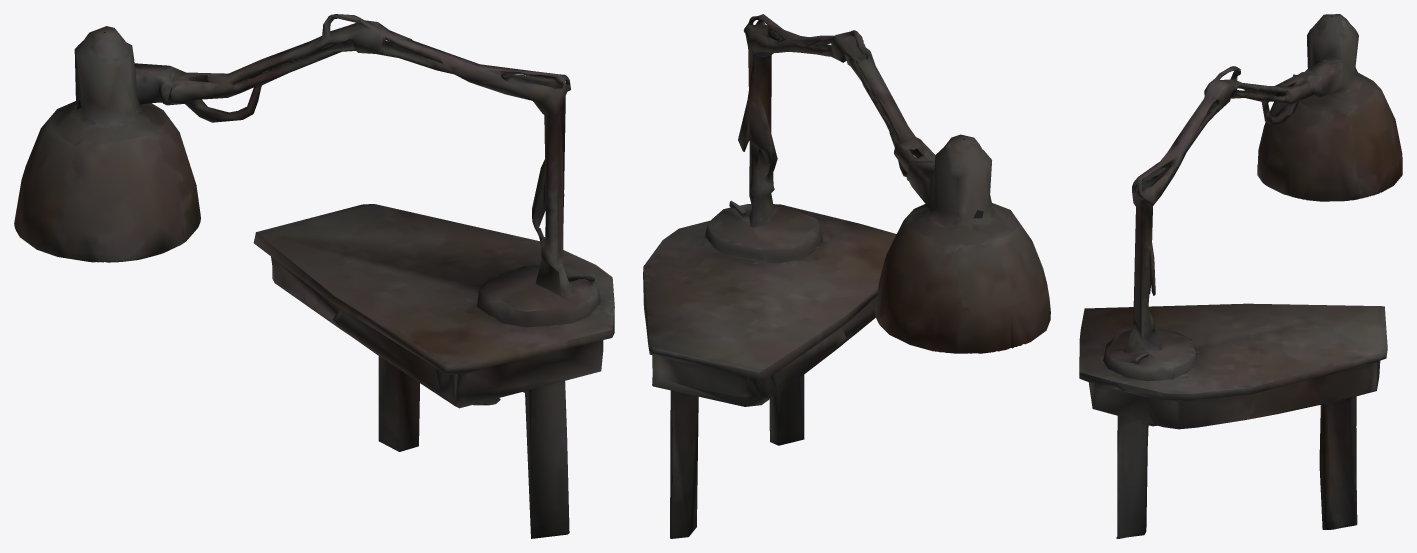
File: chipped-iron-desk-v003.glb
The picture shows the model from 3 angles, left to right: view 1: azimuth 30°, elevation 25°; view 2: azimuth 150°, elevation 25°; view 3: azimuth 270°, elevation 25°; orthographic projection. The views are drawn at different scales.
Parts seen in each view (by area): view 1: chipped-iron-desk; view 2: chipped-iron-desk; view 3: chipped-iron-desk.
Boxes of the visible parts, box(x1,y1,x2,y2) form: chipped-iron-desk: box(14, 14, 614, 538); chipped-iron-desk: box(643, 14, 1050, 538); chipped-iron-desk: box(1079, 14, 1402, 538).
Bounding box in the file's own units: 0.7745 × 0.7767 × 0.5558.
Materials: 1 (1 with a texture image).
